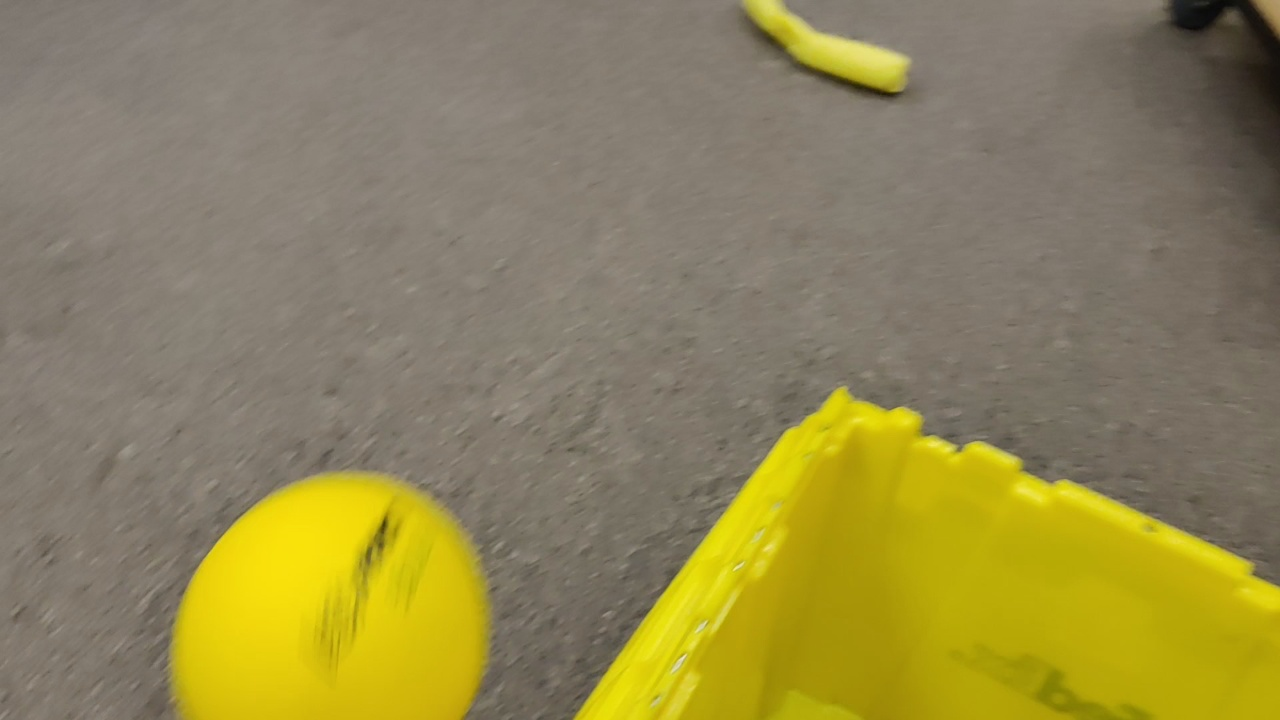Ball: (172, 470, 493, 720)
